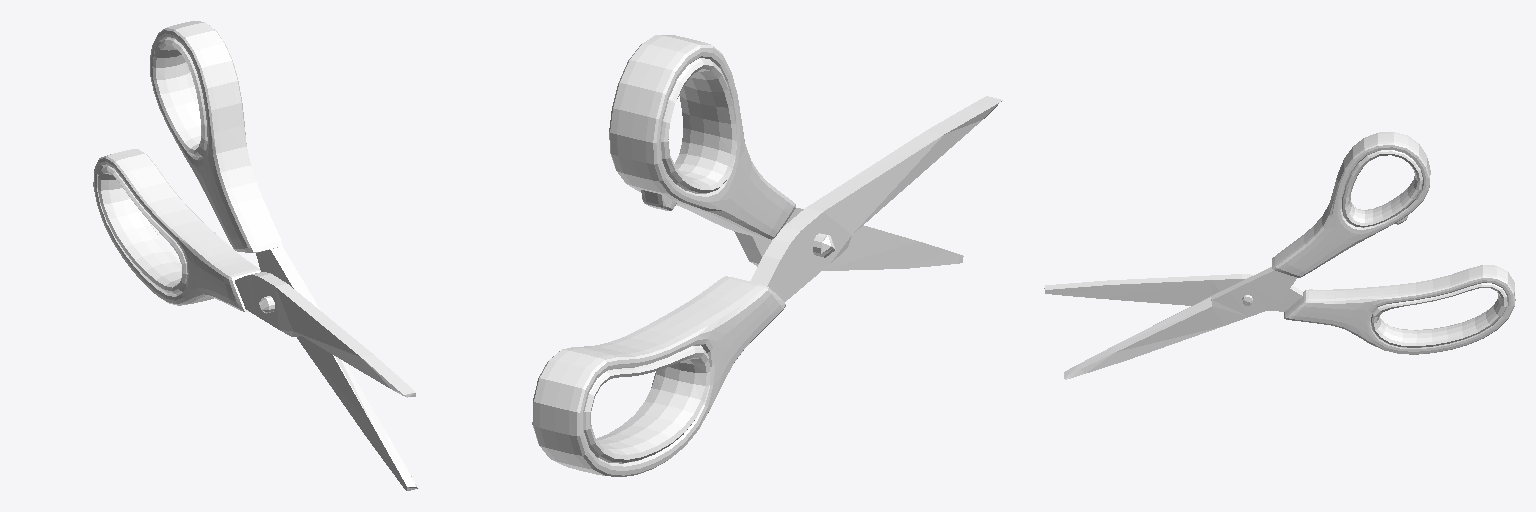
URDF robot description (sissors):
<?xml version="0.0" ?>
<robot name="sissors">
  <link name="base">
    <inertial>
        <origin rpy="0 0 0" xyz="0 0 0"/>
        <mass value="1.0"/>
        <inertia ixx="1" ixy="0" ixz="0" iyy="1" iyz="0" izz="1"/>
    </inertial>
   <visual>
     <origin rpy="0 0 0" xyz="0 0 0"/>
     <geometry>
       <mesh filename="sissors.obj" scale="1 1 1"/>
     </geometry>
      <material name="white">
       <color rgba="1 1 1 1"/>
     </material>
   </visual>
   <collision>
     <origin rpy="0 0 0" xyz="0 0 0"/>
     <geometry>
       <mesh filename="sissors.obj" scale="1 1 1"/>
     </geometry>
   </collision>
  </link>
  <link name="grasp">
    <inertial>
      <origin rpy="0 0 0" xyz="0 0 0"/>
       <mass value="0.0"/>
       <inertia ixx="1" ixy="0" ixz="0" iyy="1" iyz="0" izz="1"/>
    </inertial>
  </link>
  <joint name="base__grasp" type="fixed">
    <origin xyz="0.0 -0.06 0.08" rpy="0.0 0.0 0.0"/>
    <parent link="base"/>
    <child link="grasp"/>
  </joint>
</robot>

--- What the picture shows (computed from the rendered views, not written in the file) ---
3 views of the same robot in one strip: view 1: azimuth 30°, elevation 25°; view 2: azimuth 150°, elevation 25°; view 3: azimuth 270°, elevation 25° (orthographic).
Robot: sissors — 2 links, 1 joints (1 fixed); root link base; default pose: all joints at 0.
Visible links, largest first — view 1: base; view 2: base; view 3: base.
Link boxes in pixels (x1=…): base: x1=93, y1=21, x2=418, y2=490; base: x1=532, y1=35, x2=1002, y2=476; base: x1=1044, y1=132, x2=1515, y2=379.
Bounding box of the posed robot: 0.0229 × 0.2766 × 0.1542 m (x, y, z).
1 mesh visuals loaded from 1 distinct referenced files (1 OBJ).